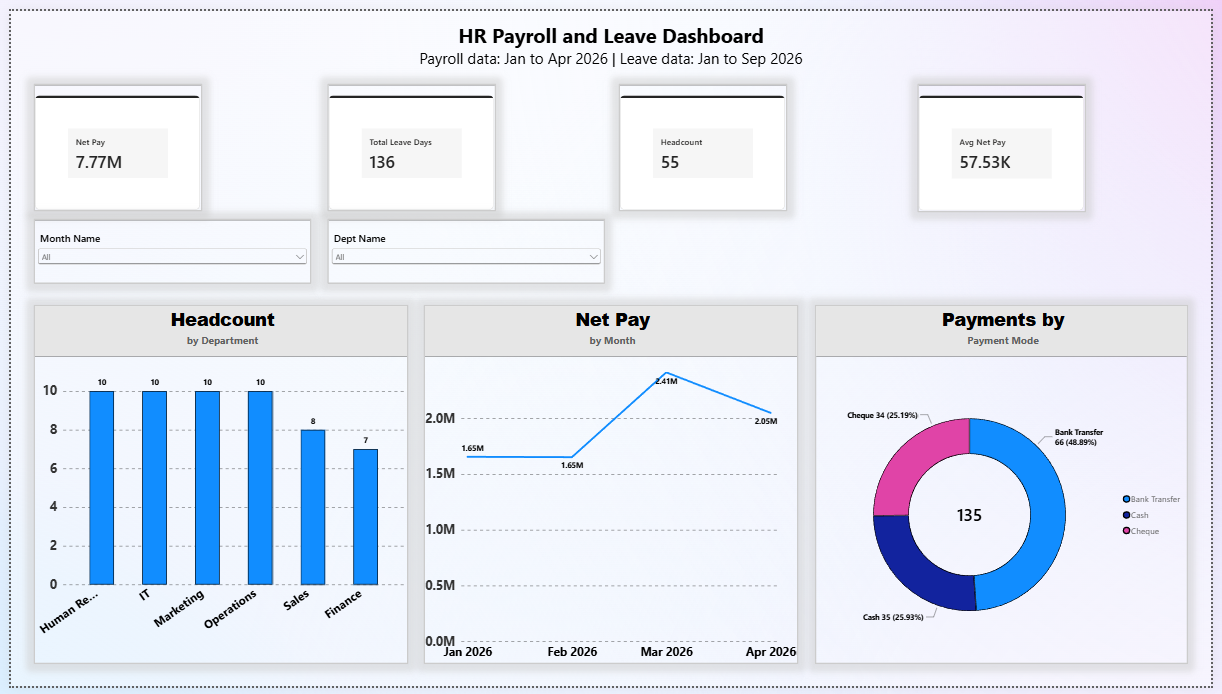

Layout of this report page (visuals, bound fields, positions):
{"tool":"powerbi","page":{"name":"Overview ","canvas":[1920,1080],"ordinal":0},"visuals":[{"type":"cardVisual","fields":{"Data":["Count(Employee.Emp Id)"]},"box":[972.5,115,270,205],"z":0},{"type":"cardVisual","fields":{"Data":["Salary.net pay"]},"box":[35,115,270,205],"z":1000},{"type":"cardVisual","fields":{"Data":["Sum(Leaves.Days)"]},"box":[505,115,270,205],"z":2000},{"type":"cardVisual","fields":{"Data":["Salary.avg net pay"]},"box":[1450,115,270,206.3],"z":3000},{"type":"clusteredColumnChart","title":"Headcount","fields":{"Category":["Department.Dept Name"],"Y":["Count(Employee.Emp Id)"]},"box":[35,470,600,575],"z":4000},{"type":"lineChart","title":"Net Pay ","fields":{"Category":["Salary.Pay Month"],"Y":["Salary.net pay"]},"box":[660,470,600,575],"z":5000},{"type":"donutChart","title":"Payments by","fields":{"Category":["Salary.Payment Mode"],"Y":["Count(Salary.Payroll ID)"]},"box":[1285,470,597.5,575],"z":6000},{"type":"textbox","box":[36,15,1848,75],"z":9000},{"type":"slicer","fields":{"Values":["Department.Dept Name"]},"box":[505,332.5,445,105],"z":9500},{"type":"slicer","fields":{"Values":["Calendar.Month Name"]},"box":[35,332.5,445,105],"z":9750}]}

Visuals, with their boxes in screenshot pixels (x1, y1, x2, y2), scaled from the page's 1920x1080 canvas onto the 1222x694 screenshot:
cardVisual - Count(Employee.Emp Id): 619, 74, 791, 206
cardVisual - Salary.net pay: 22, 74, 194, 206
cardVisual - Sum(Leaves.Days): 321, 74, 493, 206
cardVisual - Salary.avg net pay: 923, 74, 1095, 206
"Headcount" clusteredColumnChart: 22, 302, 404, 672
"Net Pay " lineChart: 420, 302, 802, 672
"Payments by" donutChart: 818, 302, 1198, 672
textbox: 23, 10, 1199, 58
slicer - Department.Dept Name: 321, 214, 605, 281
slicer - Calendar.Month Name: 22, 214, 306, 281
